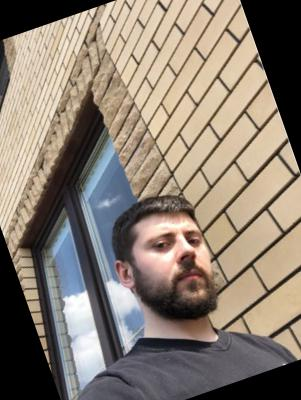without_mask: (133, 212, 230, 330)
